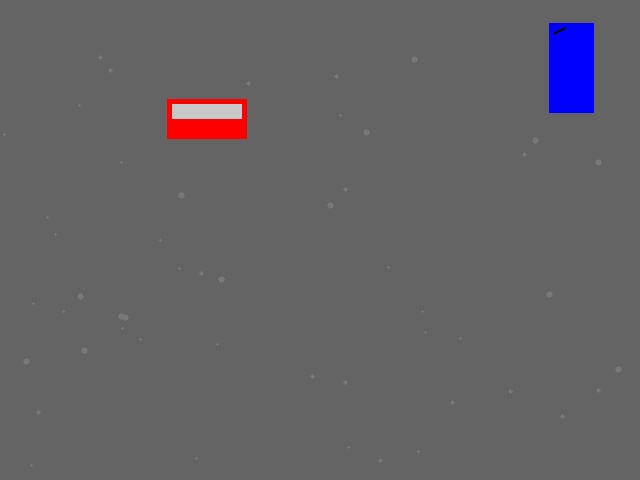car: (167, 99, 246, 138)
motorcycle: (549, 23, 593, 112)
